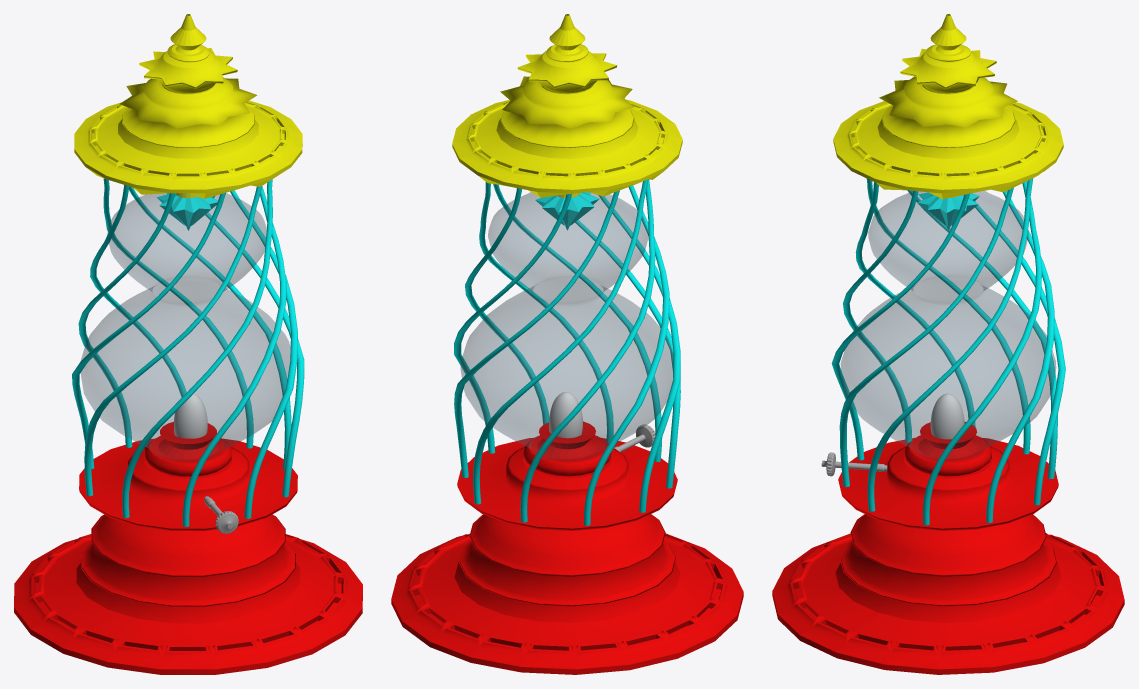
The picture shows the model from 3 angles, left to right: view 1: azimuth 30°, elevation 25°; view 2: azimuth 150°, elevation 25°; view 3: azimuth 270°, elevation 25°; orthographic projection.
Visible parts, largest first — view 1: polySurface37; view 2: polySurface37; view 3: polySurface37.
Boxes of the visible parts, box(x1,y1,x2,y2) form: polySurface37: box(14, 14, 362, 674); polySurface37: box(391, 14, 743, 674); polySurface37: box(772, 14, 1124, 674).
Size of the model in its own units: 8.81 by 16.18 by 8.81.
